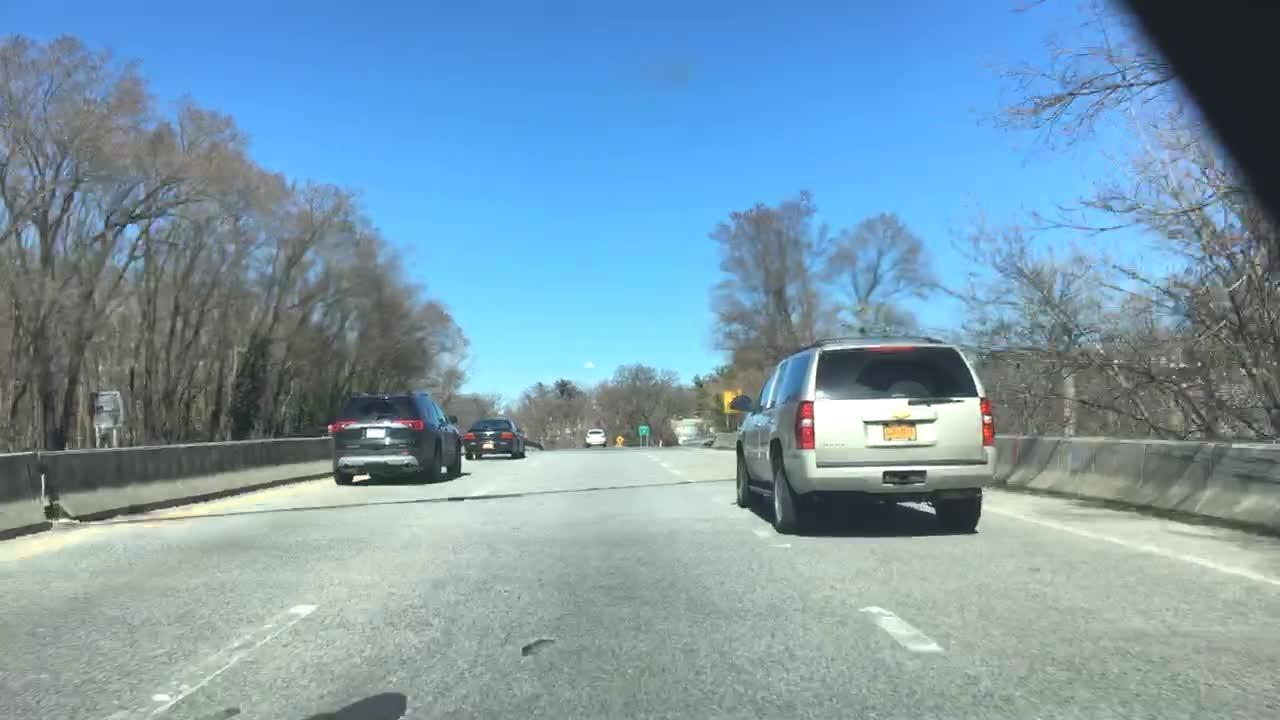chevrolet: (879, 401, 921, 429)
